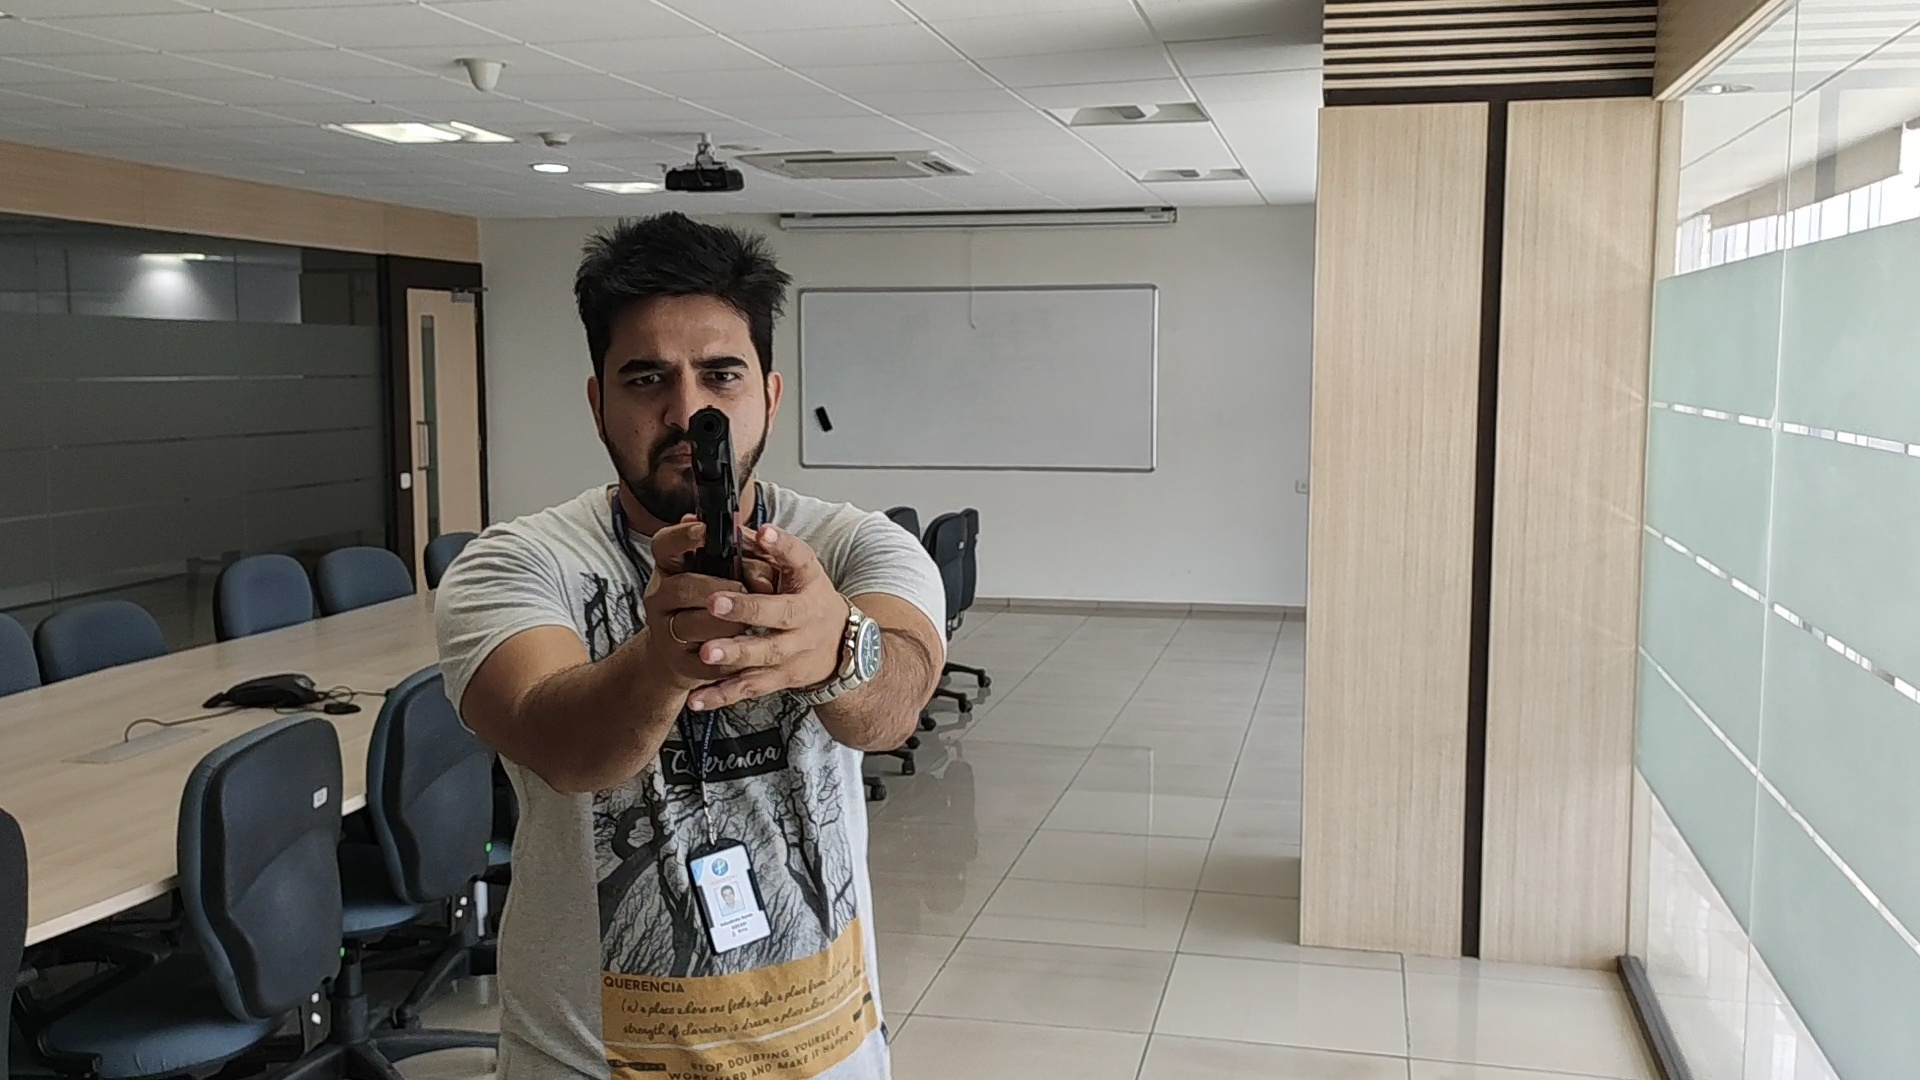gun: (688, 405, 740, 521)
